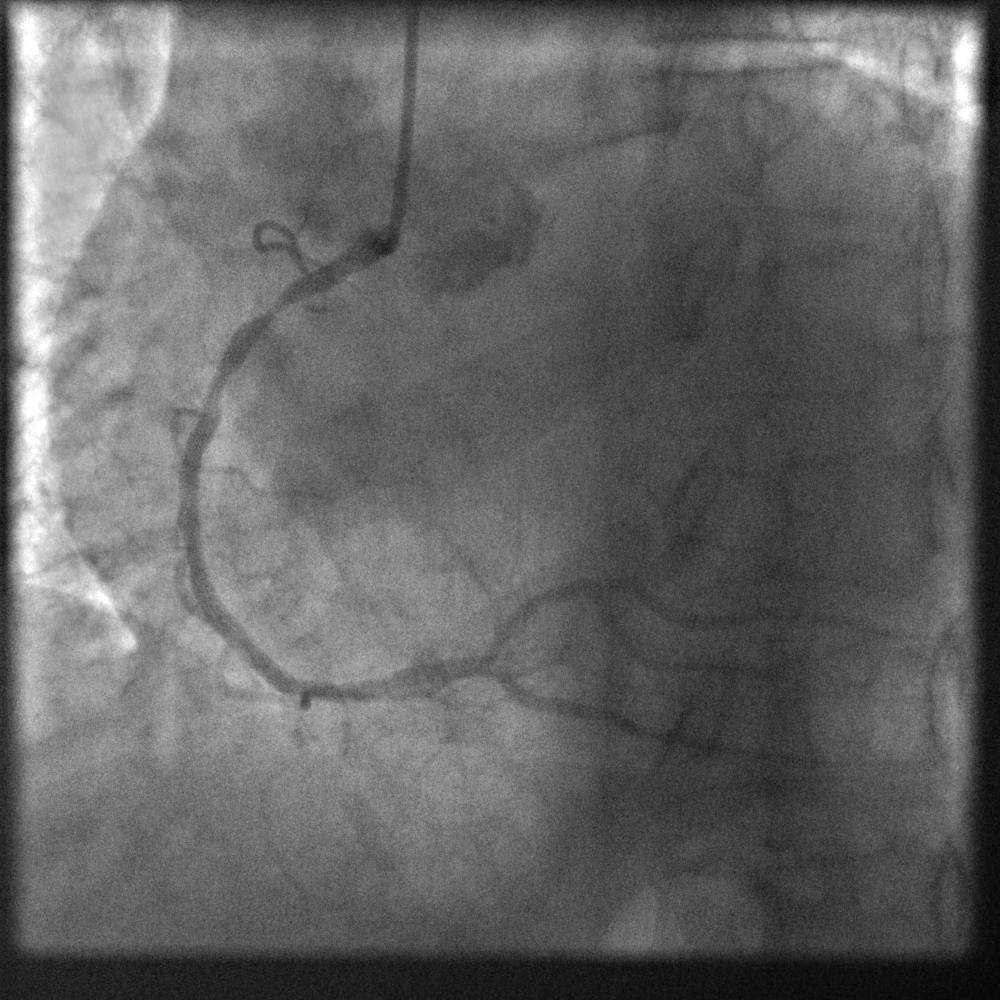Stenosis: (237, 292, 300, 330)
